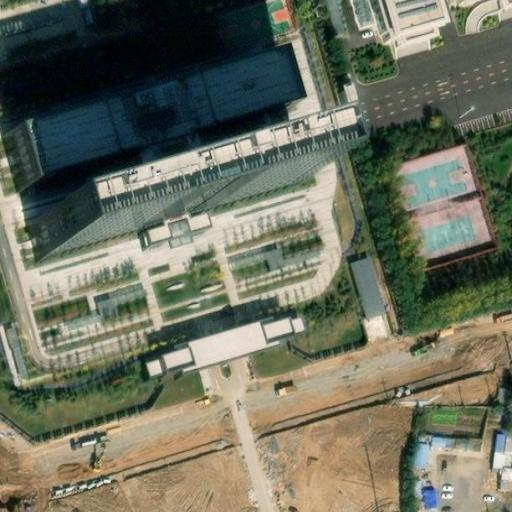building: (27, 46, 302, 174), (38, 135, 313, 250), (141, 312, 304, 377), (417, 239, 500, 282), (143, 208, 213, 246), (348, 260, 382, 316), (427, 437, 479, 449), (335, 77, 355, 102), (421, 487, 440, 512), (416, 436, 427, 469), (493, 433, 502, 467), (502, 473, 512, 489)
